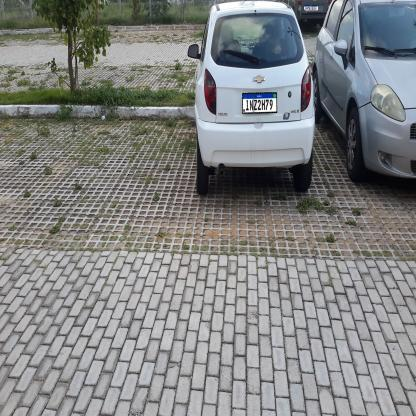PlacaM: (242, 92, 277, 114), (304, 5, 318, 11)
